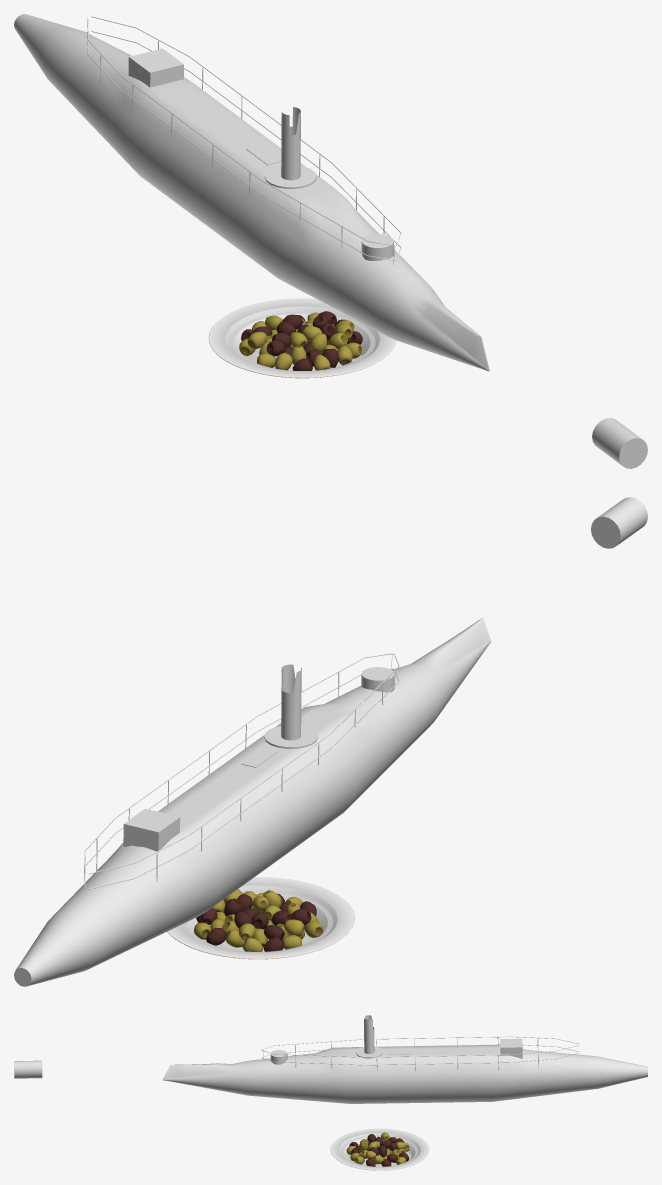
Rendered from sss2.glb.
3 renders of one model, top to bottom at view 1: azimuth 30°, elevation 25°; view 2: azimuth 150°, elevation 25°; view 3: azimuth 270°, elevation 25°, orthographic. The views are drawn at different scales.
Visible parts, largest first — view 1: Torpedo, olives, glassDish; view 2: Torpedo, olives, glassDish; view 3: Torpedo, glassDish, olives.
Boxes of the visible parts, x1,y1,x2,y2 form: Torpedo: (14, 14, 647, 468); olives: (239, 311, 362, 370); glassDish: (208, 298, 396, 377); Torpedo: (14, 497, 647, 986); olives: (194, 889, 323, 951); glassDish: (167, 877, 354, 958); Torpedo: (14, 1015, 647, 1103); glassDish: (330, 1128, 429, 1170); olives: (346, 1132, 409, 1166).
Bounding box in the file's own units: 0.4593 × 0.6867 × 2.94.
6 materials, 2 textured.
